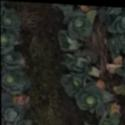cabbage: (71, 15, 86, 32), (2, 106, 18, 121), (71, 56, 85, 71), (85, 92, 97, 109), (2, 51, 16, 65), (2, 72, 15, 87), (0, 12, 13, 24), (0, 32, 9, 47), (120, 14, 125, 26)
